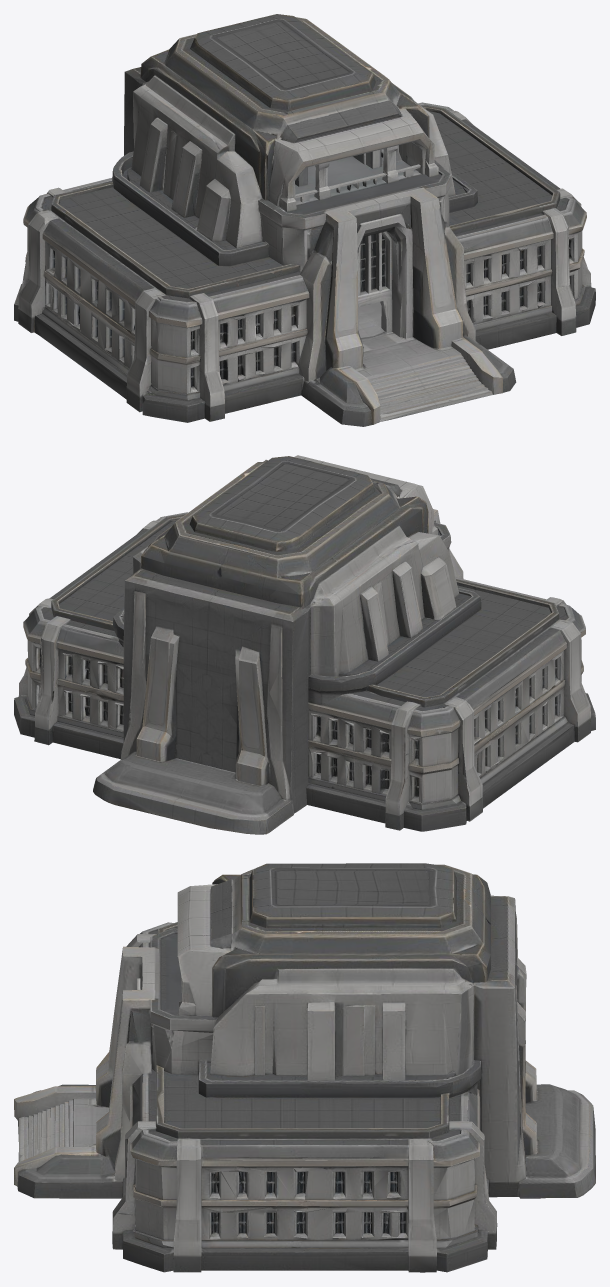
Rendered from imperial_governor_palace_lod1.glb.
3 renders of one model, top to bottom at view 1: azimuth 30°, elevation 25°; view 2: azimuth 150°, elevation 25°; view 3: azimuth 270°, elevation 25°, orthographic. The views are drawn at different scales.
Parts seen in each view (by area): view 1: mesh_node; view 2: mesh_node; view 3: mesh_node.
Part boxes in pixels (bbox=[...]): mesh_node: bbox=[14, 14, 595, 426]; mesh_node: bbox=[14, 455, 595, 834]; mesh_node: bbox=[14, 863, 595, 1272].
Bounding box in the file's own units: 36.94 × 18.9 × 37.61.
1 material, 1 textured.
